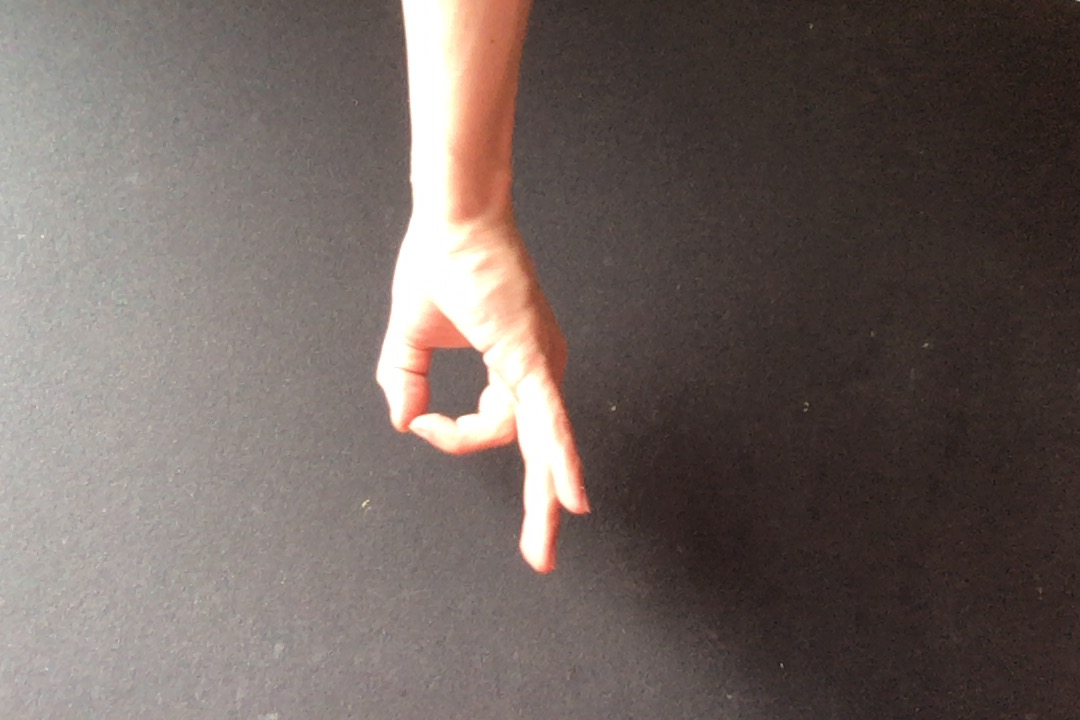oksign: (365, 203, 603, 587)
